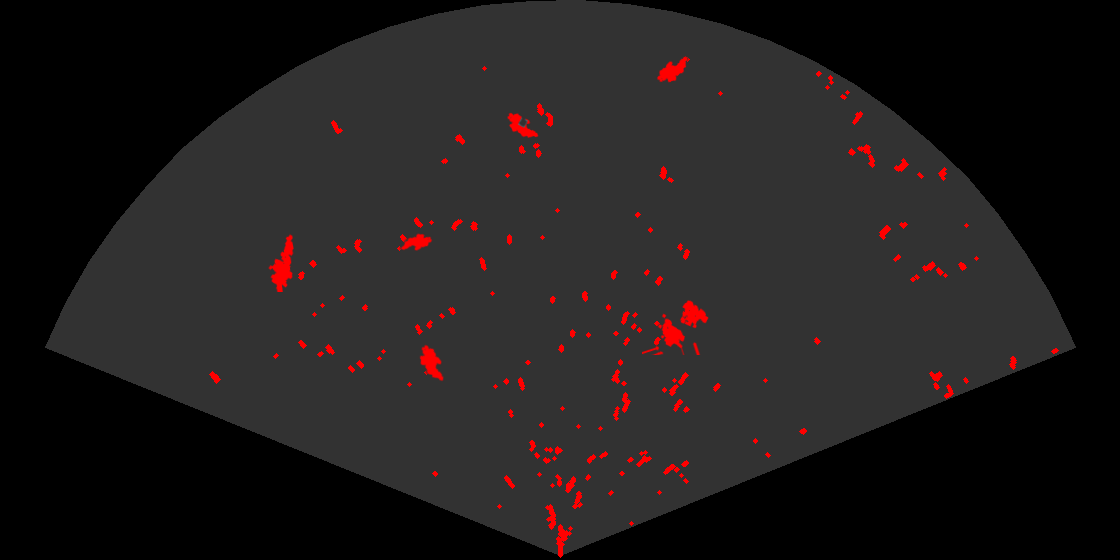AUV: (418, 343, 445, 383), (655, 55, 689, 84), (506, 111, 540, 139), (399, 232, 434, 252)
cage: (642, 299, 710, 355)
frogman: (267, 233, 295, 292)
